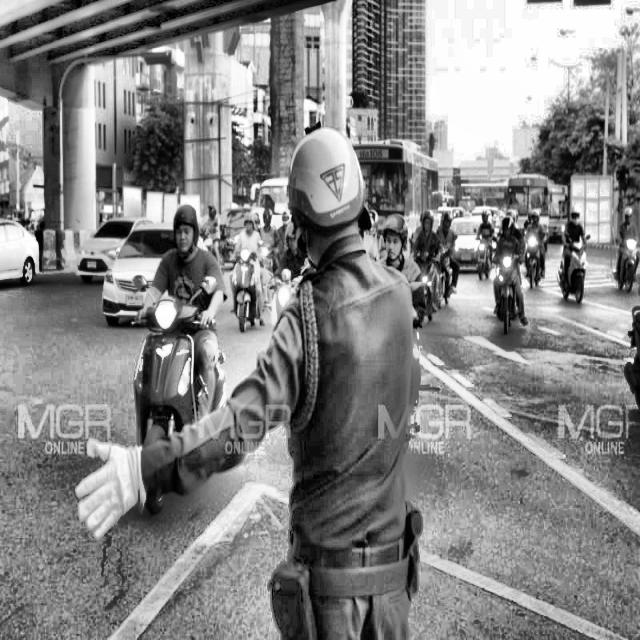Helmet: (280, 129, 381, 270), (169, 196, 204, 280), (375, 208, 416, 277)
